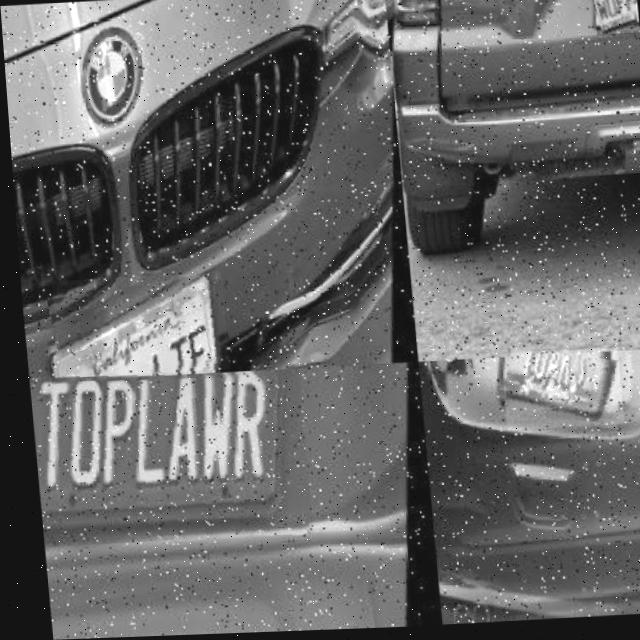LicensePlate: (23, 367, 305, 546), (53, 274, 223, 388), (494, 351, 618, 434), (594, 0, 637, 40)
